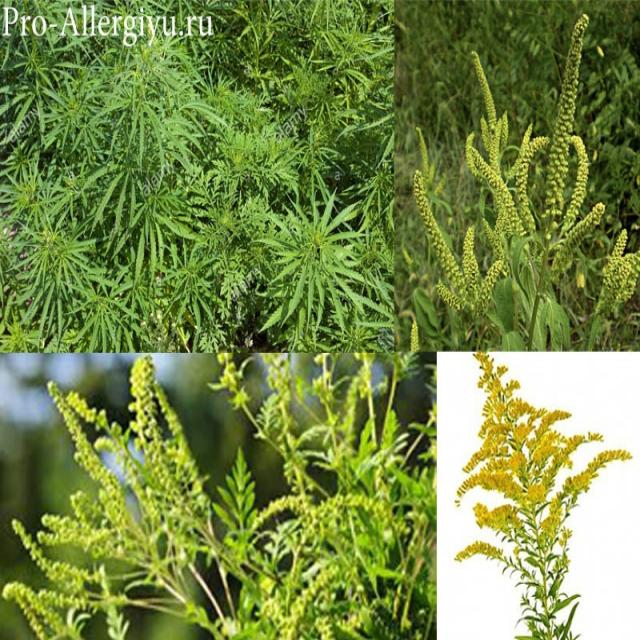ambrosia: (440, 0, 639, 339), (78, 69, 354, 305), (25, 358, 212, 630), (242, 356, 425, 602)
